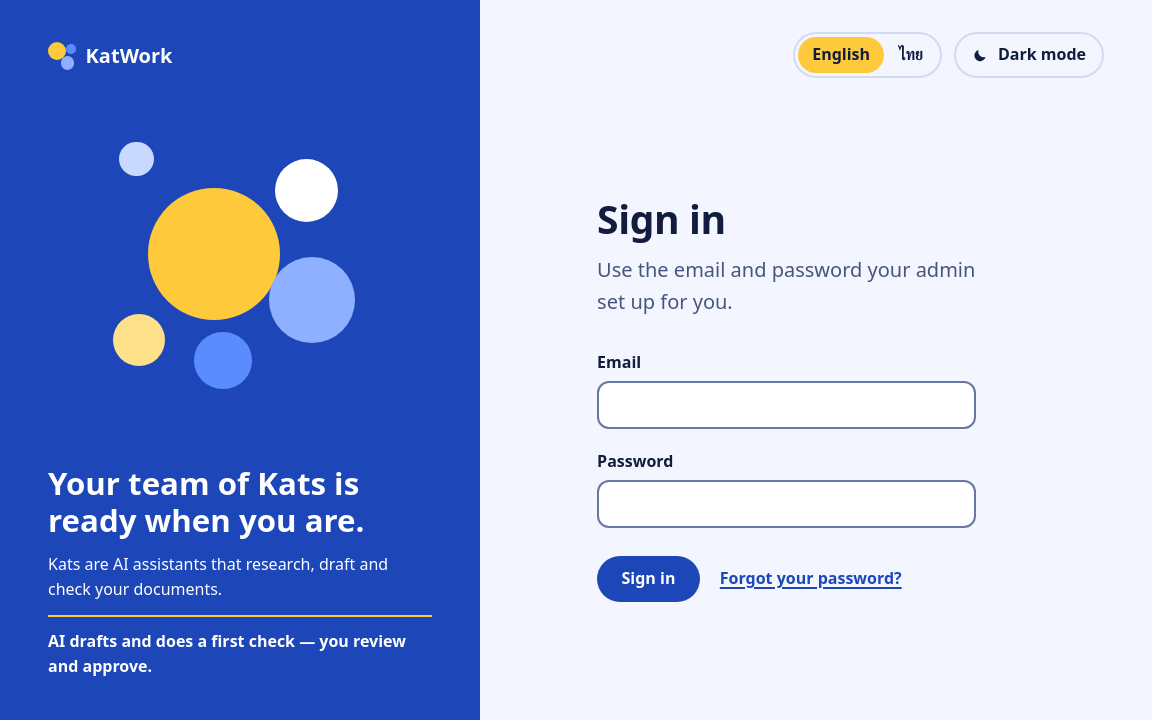
Test: login_then_home
Type "person@example.test" into the field labelled "Email" at (787, 405), box x1=597 y1=381 x2=976 y2=429
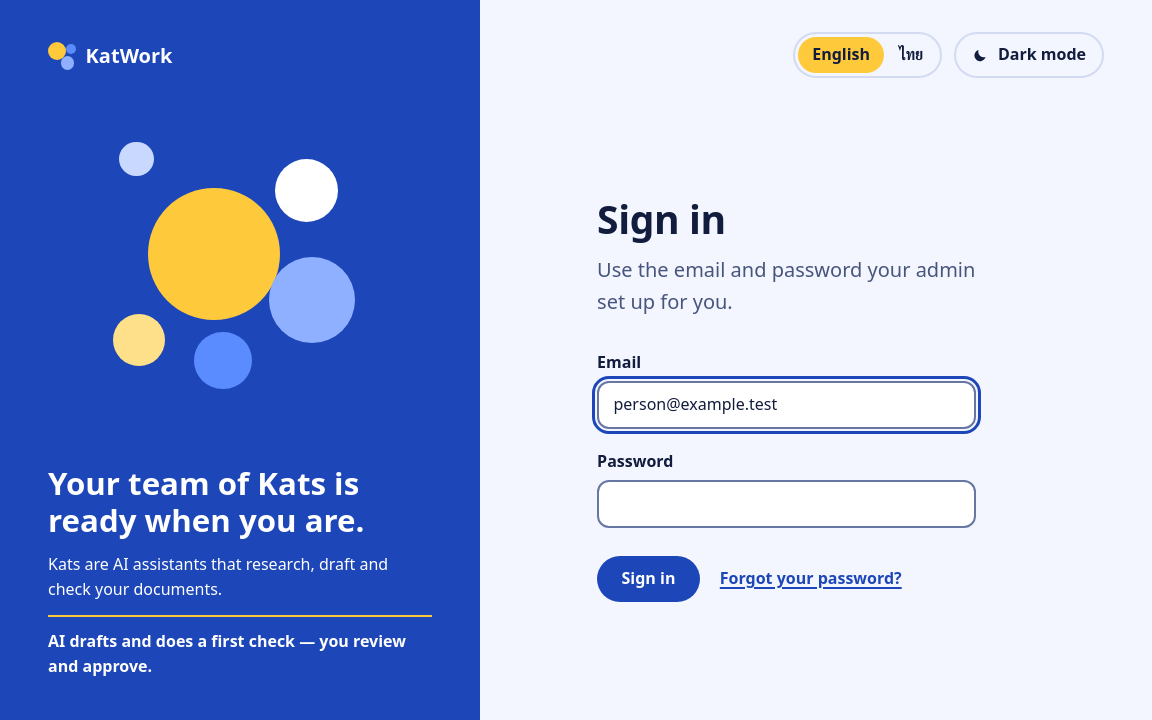
Type "correct horse" into the password field labelled "Password" at (787, 504), box x1=597 y1=480 x2=976 y2=528
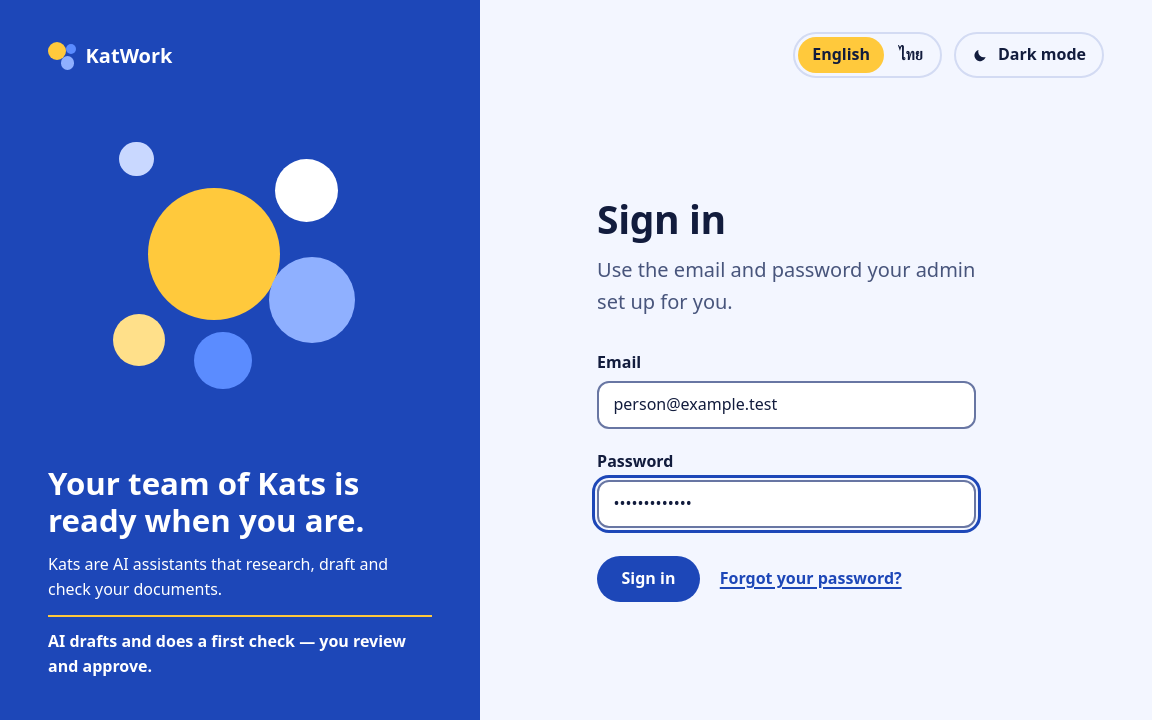
Click the button "Sign in" at (648, 579), box x1=597 y1=556 x2=700 y2=602
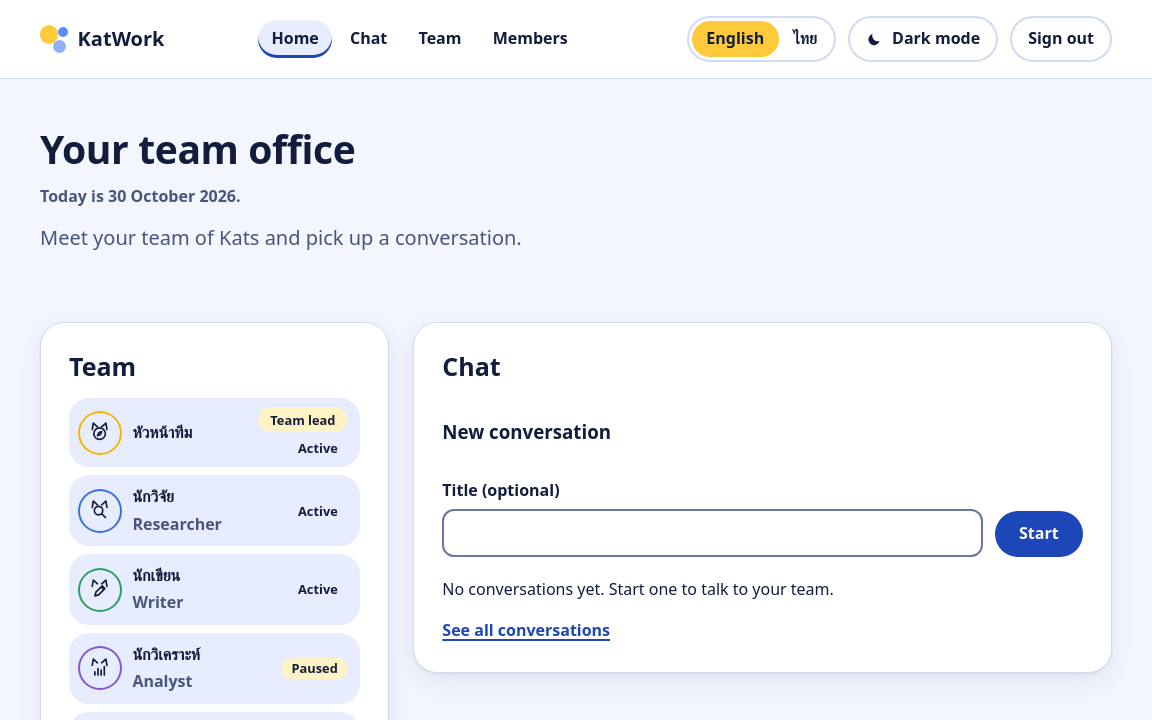
expect the heading "Your team office" is shown: met, box x1=40 y1=122 x2=355 y2=175
